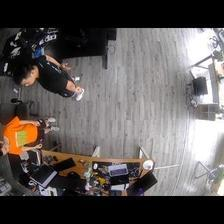normal: (14, 53, 85, 102), (1, 116, 60, 156)
